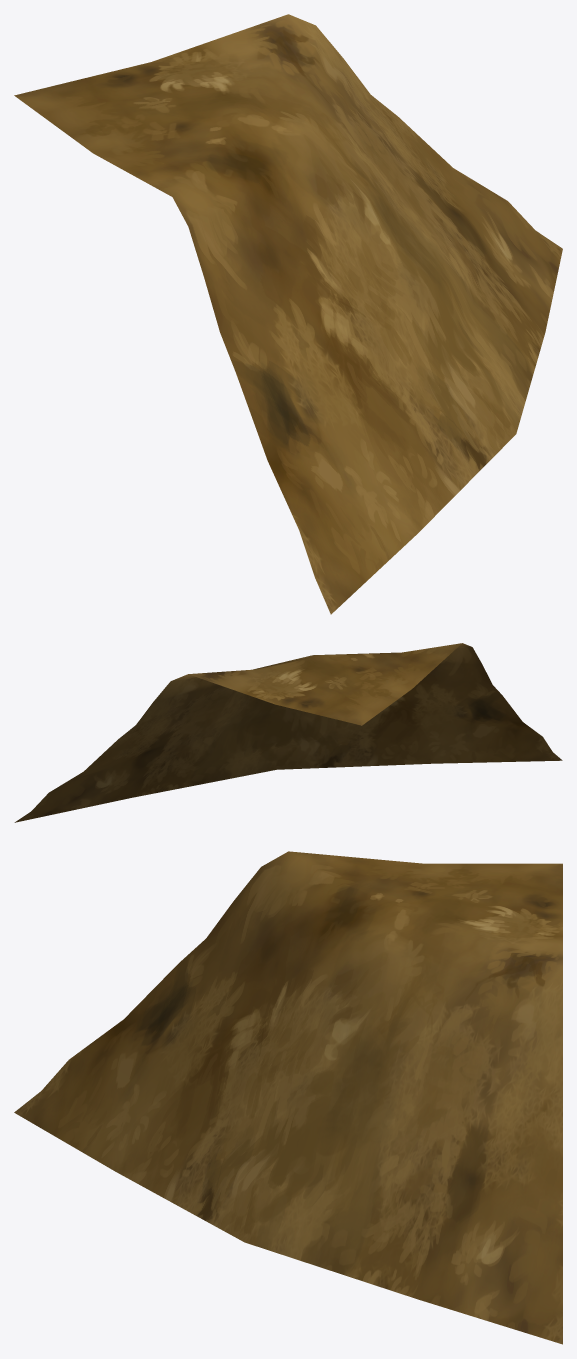
File: Levelled_Slope_Corner_008.fbx
3 views of the same model, one above another, from view 1: azimuth 30°, elevation 25°; view 2: azimuth 150°, elevation 25°; view 3: azimuth 270°, elevation 25° (orthographic). The views are drawn at different scales.
Parts seen in each view (by area): view 1: Levelled_Slope_Corner_008; view 2: Levelled_Slope_Corner_008; view 3: Levelled_Slope_Corner_008.
Boxes of the visible parts, bbox=[...] form: Levelled_Slope_Corner_008: bbox=[14, 14, 562, 614]; Levelled_Slope_Corner_008: bbox=[14, 643, 562, 822]; Levelled_Slope_Corner_008: bbox=[14, 851, 562, 1344].
Bounding box in the file's own units: 10 × 5.25 × 10.
Materials: 1 (1 with a texture image).
